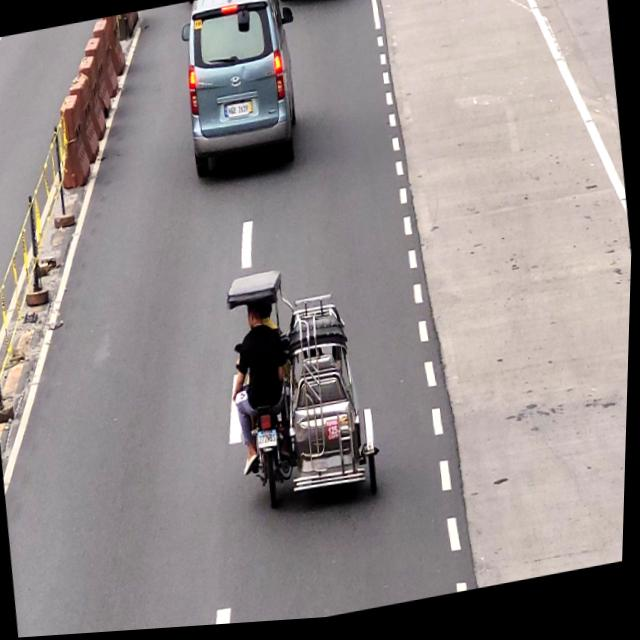Car: (175, 0, 309, 188)
License-Plate: (256, 430, 283, 455), (225, 104, 252, 125)
Tricycle: (217, 262, 389, 521)
